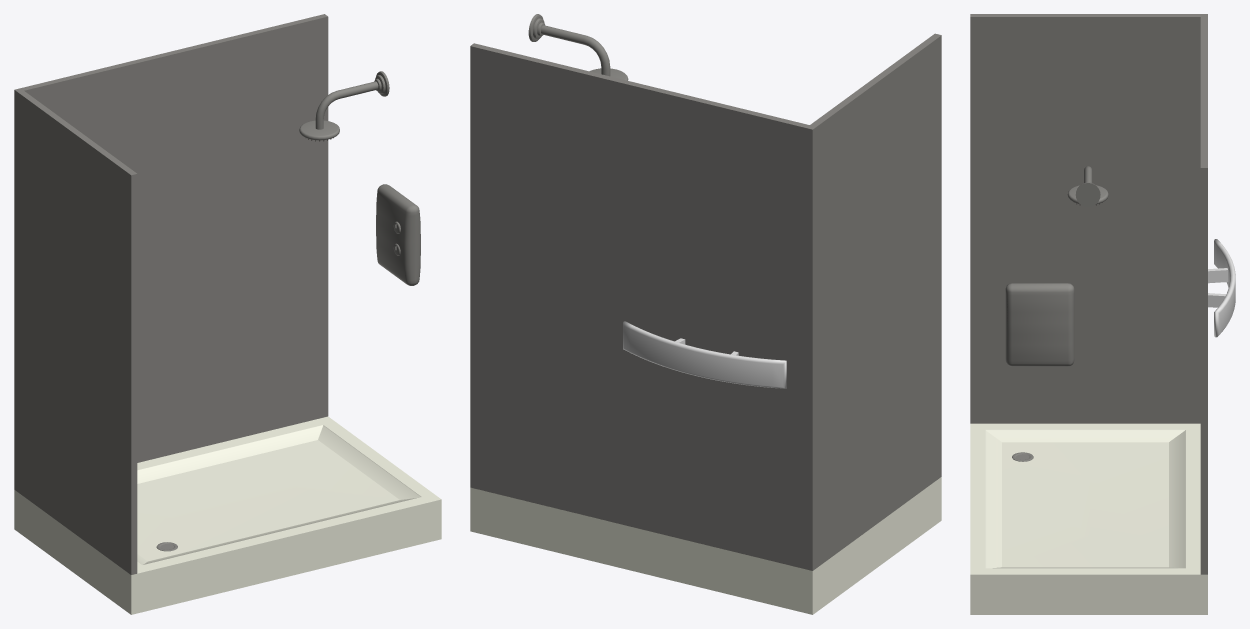
Rendered from Shower.FBX.
3 renders of one model, left to right at view 1: azimuth 30°, elevation 25°; view 2: azimuth 150°, elevation 25°; view 3: azimuth 270°, elevation 25°, orthographic. The views are drawn at different scales.
Parts seen in each view (by area): view 1: Object001, Box001, ChamferBox001, Cylinder001; view 2: Object001, Box001, Box002, Cylinder001; view 3: Object001, Box001, ChamferBox001, Box002, Cylinder001.
Boxes of the visible parts, bbox=[...] form: Object001: bbox=[14, 14, 328, 574]; Box001: bbox=[14, 416, 441, 614]; ChamferBox001: bbox=[376, 184, 420, 285]; Cylinder001: bbox=[299, 71, 389, 140]; Object001: bbox=[470, 33, 941, 570]; Box001: bbox=[470, 477, 941, 614]; Box002: bbox=[623, 321, 786, 388]; Cylinder001: bbox=[528, 14, 628, 80]; Object001: bbox=[970, 14, 1207, 574]; Box001: bbox=[970, 423, 1207, 614]; ChamferBox001: bbox=[1005, 283, 1074, 366]; Box002: bbox=[1208, 239, 1235, 337]; Cylinder001: bbox=[1067, 166, 1108, 206].
Bounding box in the file's own units: 349 × 473 × 255.
4 materials, 4 textured.
